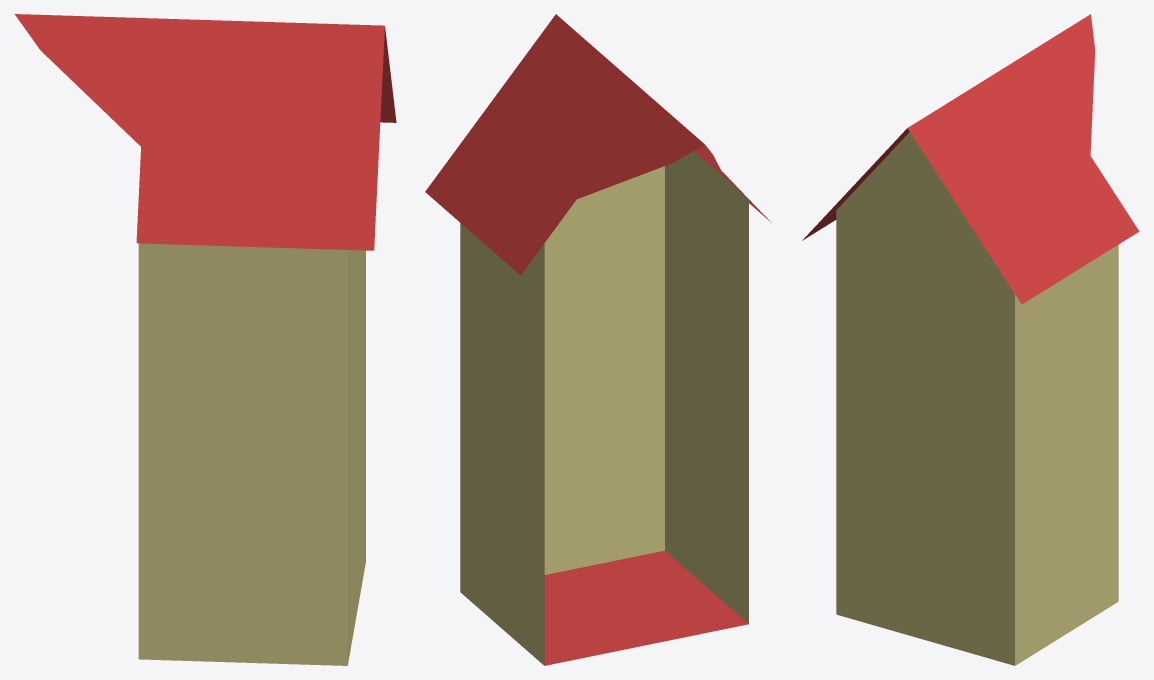
The picture shows the model from 3 angles, left to right: view 1: azimuth 30°, elevation 25°; view 2: azimuth 150°, elevation 25°; view 3: azimuth 270°, elevation 25°; orthographic projection. The views are drawn at different scales.
Bounding box in the file's own units: 6.91 × 6.72 × 11.4.
